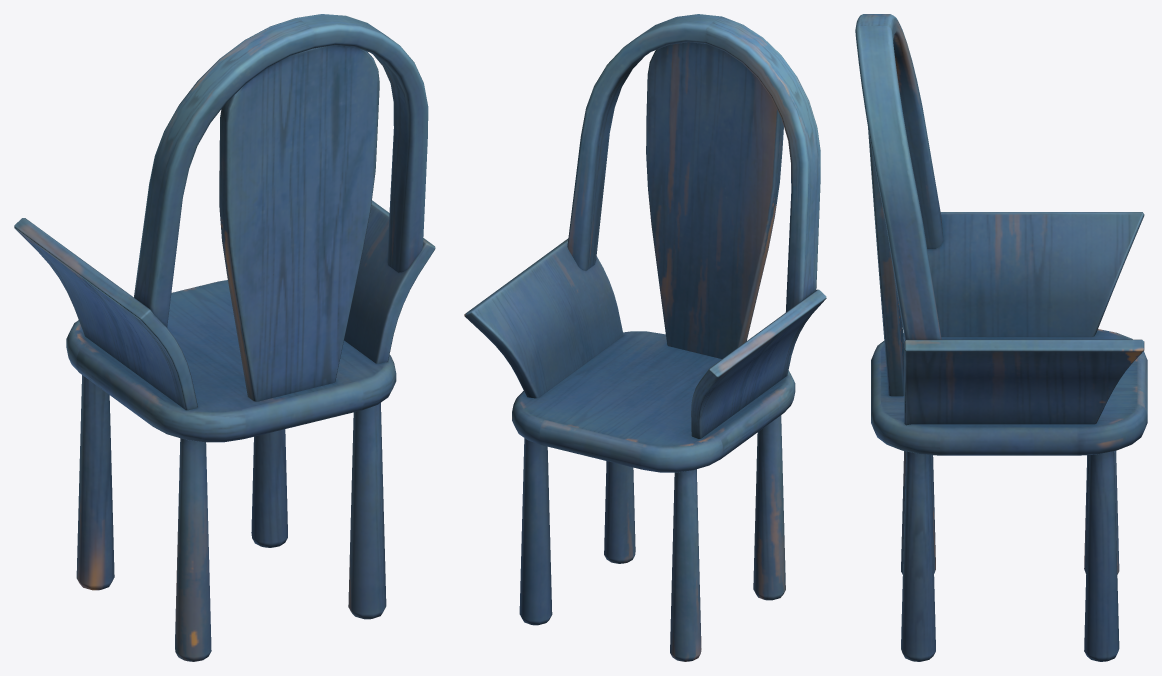
Rendered from SM_WoodenChair04.fbx.
3 renders of one model, left to right at view 1: azimuth 30°, elevation 25°; view 2: azimuth 150°, elevation 25°; view 3: azimuth 270°, elevation 25°, orthographic. The views are drawn at different scales.
Visible parts, largest first — view 1: SM_WoodenChair04_LOD0; view 2: SM_WoodenChair04_LOD0; view 3: SM_WoodenChair04_LOD0.
Part boxes in pixels (bbox=[...]): SM_WoodenChair04_LOD0: bbox=[14, 14, 435, 661]; SM_WoodenChair04_LOD0: bbox=[464, 14, 826, 661]; SM_WoodenChair04_LOD0: bbox=[855, 14, 1147, 661].
Bounding box in the file's own units: 54.06 × 49.33 × 110.
Materials: 1 (1 with a texture image).
